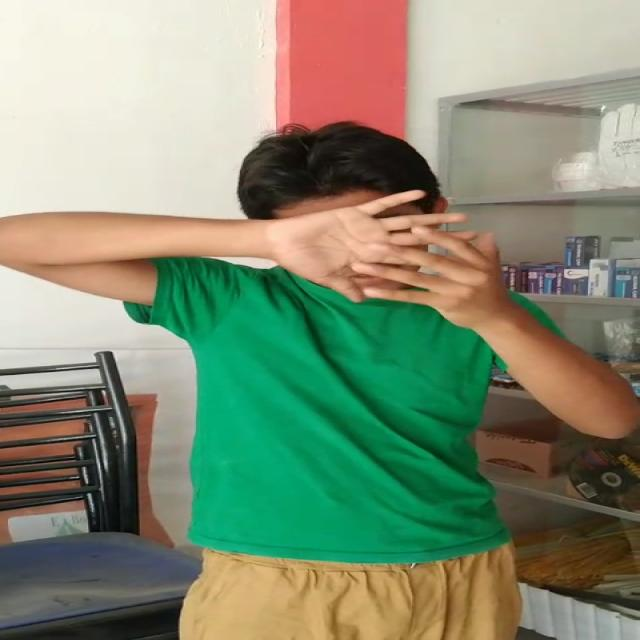7_mano_rostro: (271, 186, 534, 333)
